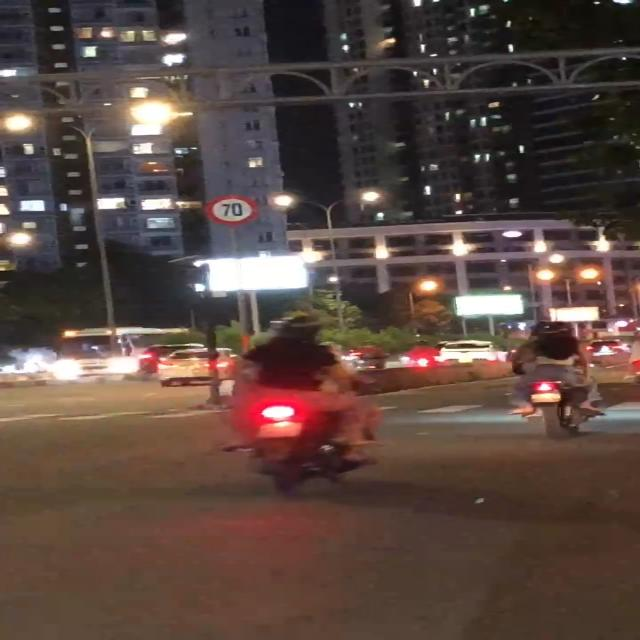Bien bao toc do toi da cho phep: (202, 190, 262, 228)
